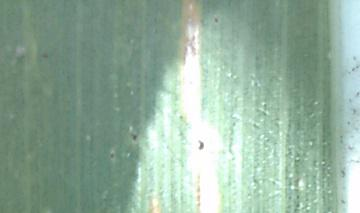tarspot: (193, 138, 208, 155), (129, 131, 139, 144)
